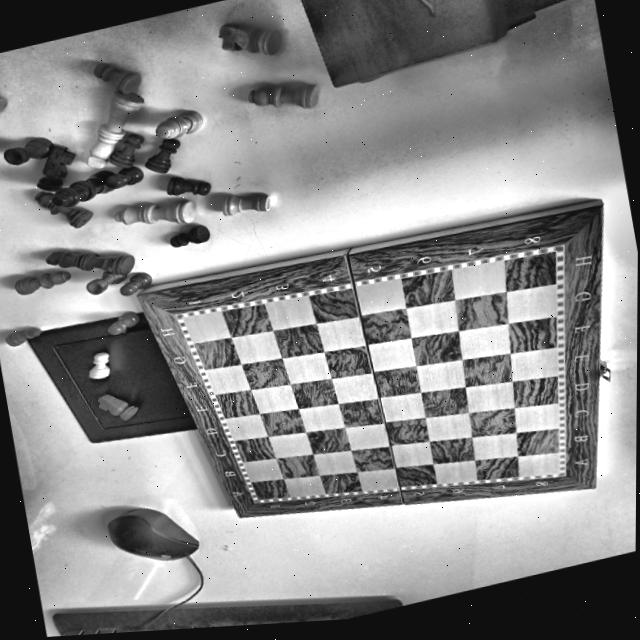chessboard: (139, 201, 604, 517)
